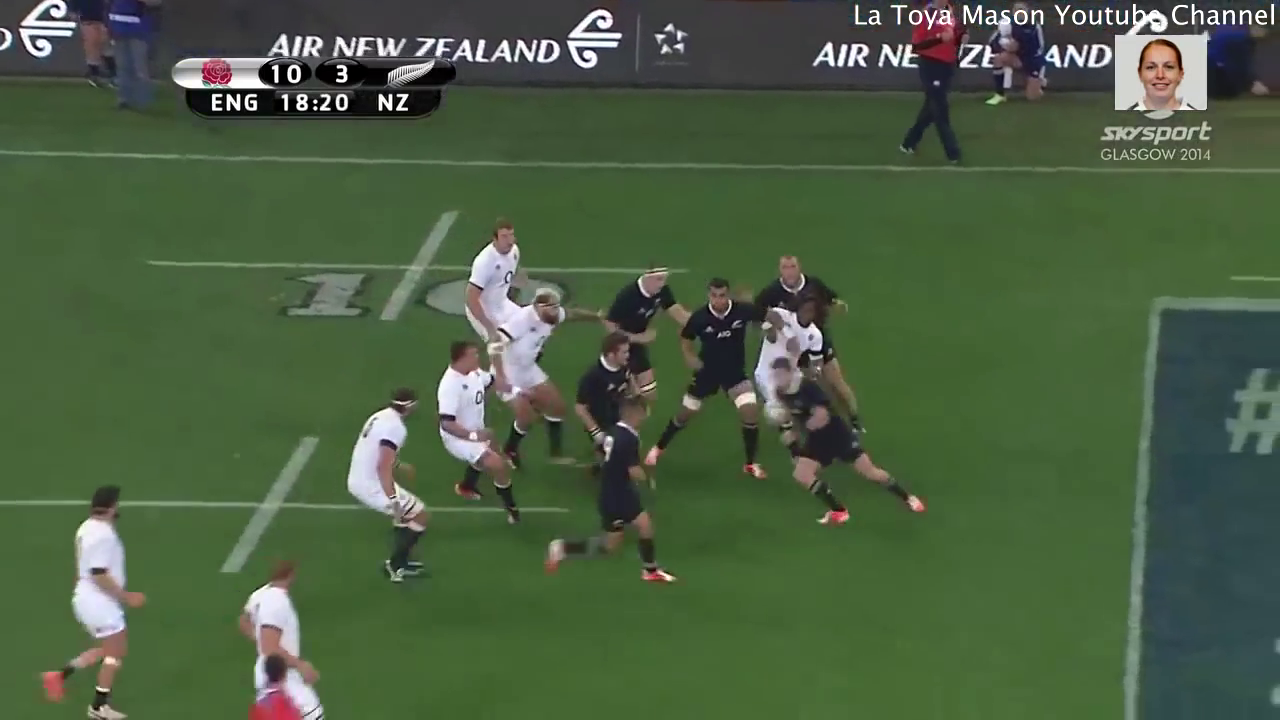10_metre: (1, 430, 574, 585), (147, 209, 685, 332)
ball: (761, 400, 796, 449)
player: (764, 356, 933, 535), (42, 487, 147, 720), (543, 400, 673, 588), (668, 277, 775, 488), (345, 387, 436, 590), (435, 339, 524, 535), (490, 284, 577, 472), (233, 561, 333, 720), (458, 214, 522, 359), (572, 338, 651, 424), (751, 262, 849, 326), (600, 266, 680, 338), (248, 650, 307, 720), (754, 300, 824, 359)
